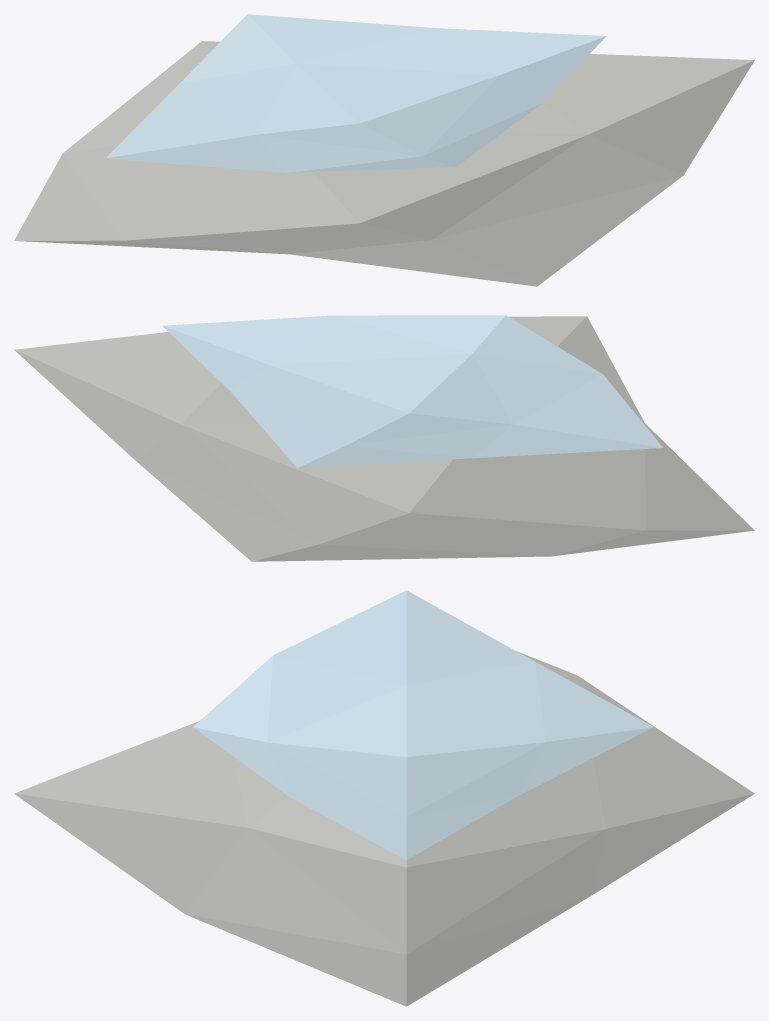
Rendered from puddle_stone_v10.glb.
3 views of the same model, one above another, from view 1: azimuth 30°, elevation 25°; view 2: azimuth 150°, elevation 25°; view 3: azimuth 270°, elevation 25° (orthographic). The views are drawn at different scales.
Parts seen in each view (by area): view 1: lod0; view 2: lod0; view 3: lod0.
Boxes of the visible parts, x1=… form: lod0: x1=14, y1=14, x2=754, y2=286; lod0: x1=14, y1=315, x2=754, y2=561; lod0: x1=14, y1=590, x2=754, y2=1006.
Size of what is drawn, in the model's own units: 0.9009 by 0.181 by 0.7065.
